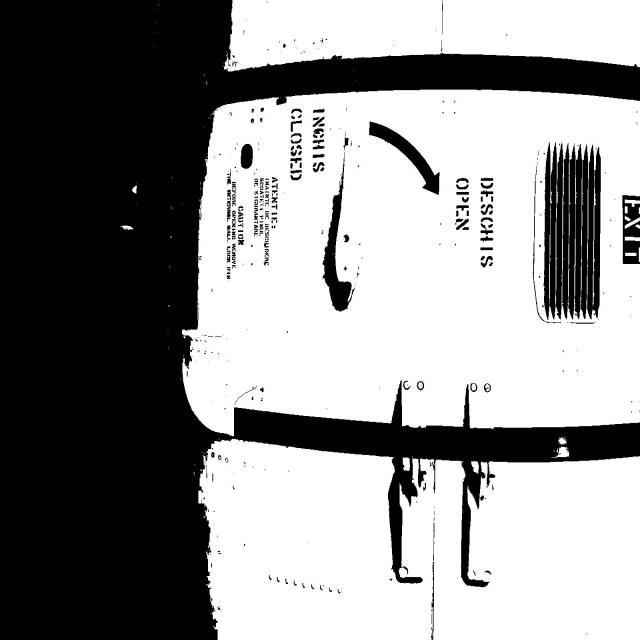Rupture: (234, 384, 266, 403)
